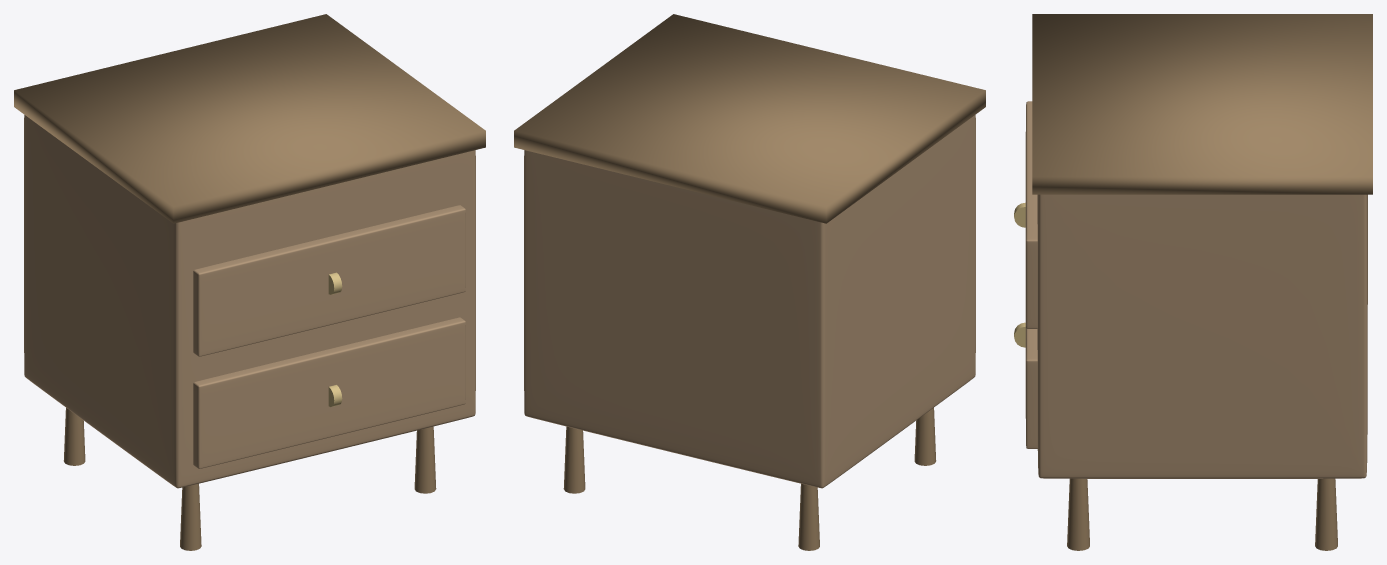
File: nightstand.glb
3 views of the same model, side by side, from view 1: azimuth 30°, elevation 25°; view 2: azimuth 150°, elevation 25°; view 3: azimuth 270°, elevation 25° (orthographic). The views are drawn at different scales.
Parts seen in each view (by area): view 1: nsbody, nstop, nsdrawer_1, nsdrawer_0, nsfoot_-1_-1, nsfoot_1_-1, nsfoot_-1_1; view 2: nsbody, nstop, nsfoot_-1_1, nsfoot_1_1, nsfoot_-1_-1; view 3: nsbody, nstop, nsdrawer_1, nsdrawer_0, nsfoot_1_-1, nsfoot_1_1.
Part boxes in pixels (x1,y1,x2,y2): nsbody: (24,115,475,488); nstop: (14,14,485,223); nsdrawer_1: (193,205,465,356); nsdrawer_0: (193,317,465,468); nsfoot_-1_-1: (180,483,201,550); nsfoot_1_-1: (414,426,436,493); nsfoot_-1_1: (63,408,85,465); nsbody: (524,115,975,488); nstop: (514,14,985,223); nsfoot_-1_1: (798,483,819,550); nsfoot_1_1: (563,426,585,493); nsfoot_-1_-1: (914,408,936,465); nsbody: (1037,194,1367,478); nstop: (1032,14,1372,194); nsdrawer_1: (1025,101,1037,328); nsdrawer_0: (1025,299,1037,448); nsfoot_1_-1: (1067,478,1089,550); nsfoot_1_1: (1315,478,1337,550).
Size of the model in its own units: 0.466 by 0.52 by 0.434.
